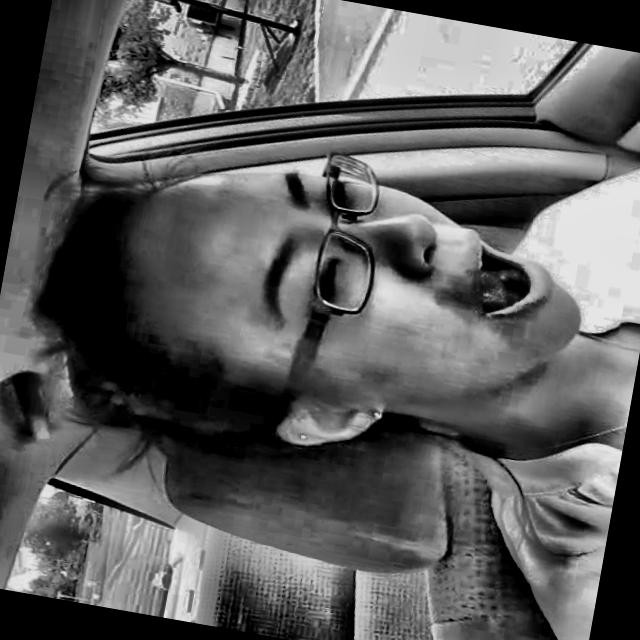closed_eyes: (302, 238, 366, 325), (310, 148, 374, 219)
open_mouth: (454, 222, 568, 345)
